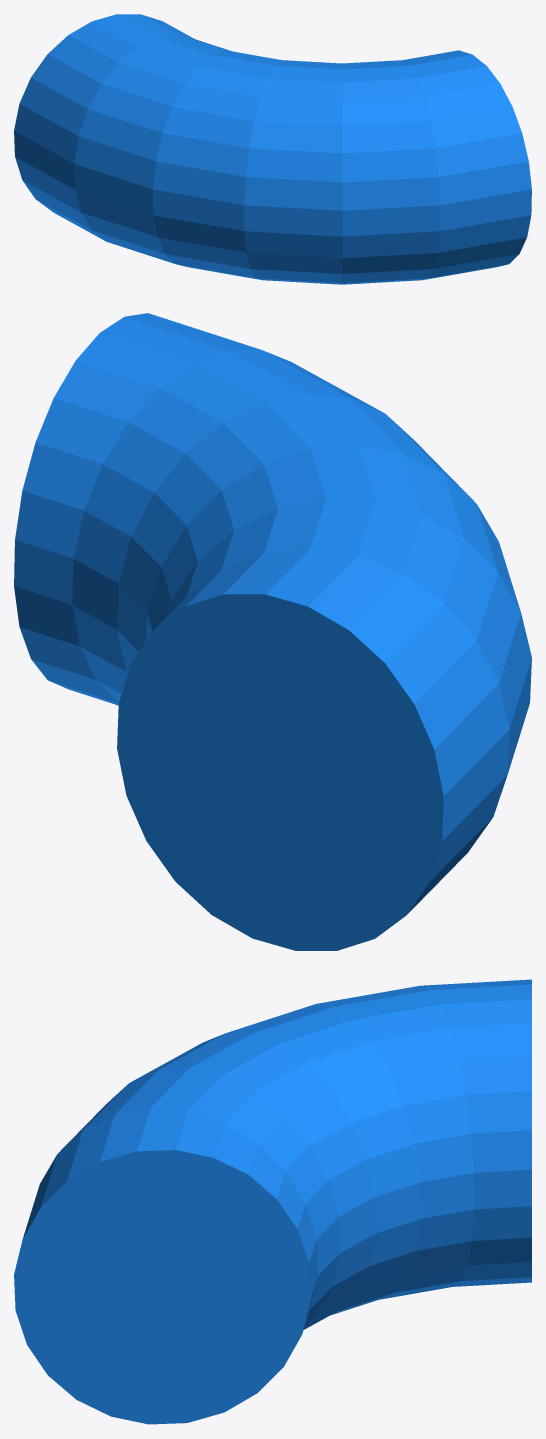
File: Proto_Block_Torus_Quarter_01.fbx
The picture shows the model from 3 angles, top to bottom: view 1: azimuth 30°, elevation 25°; view 2: azimuth 150°, elevation 25°; view 3: azimuth 270°, elevation 25°; orthographic projection. The views are drawn at different scales.
Parts seen in each view (by area): view 1: Proto_Block_Torus_Quarter_01; view 2: Proto_Block_Torus_Quarter_01; view 3: Proto_Block_Torus_Quarter_01.
Boxes of the visible parts, bbox=[...] form: Proto_Block_Torus_Quarter_01: bbox=[14, 14, 531, 284]; Proto_Block_Torus_Quarter_01: bbox=[14, 313, 531, 950]; Proto_Block_Torus_Quarter_01: bbox=[14, 979, 531, 1424].
Size of the model in its own units: 0.5 by 0.2924 by 0.5.
